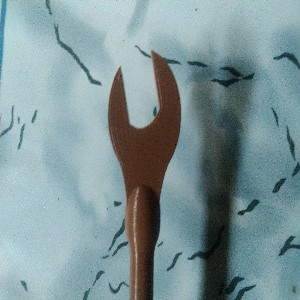spanner: (106, 50, 182, 300)
